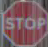Stop: (2, 3, 46, 46)
